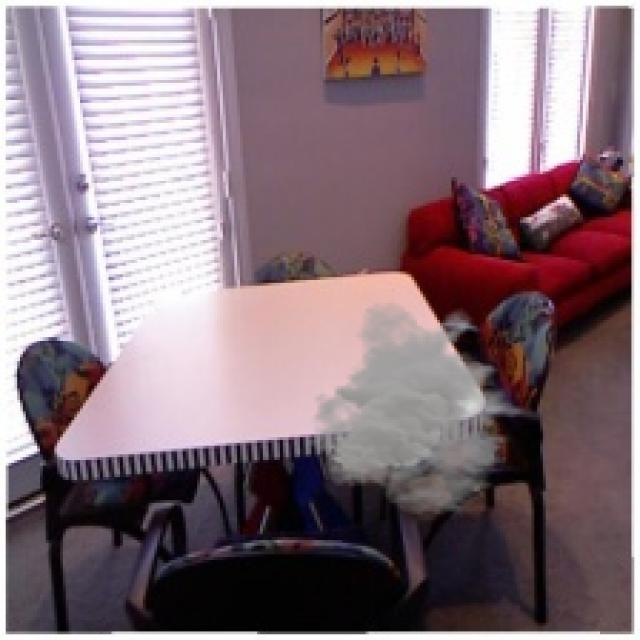smoke: (303, 300, 531, 517)
